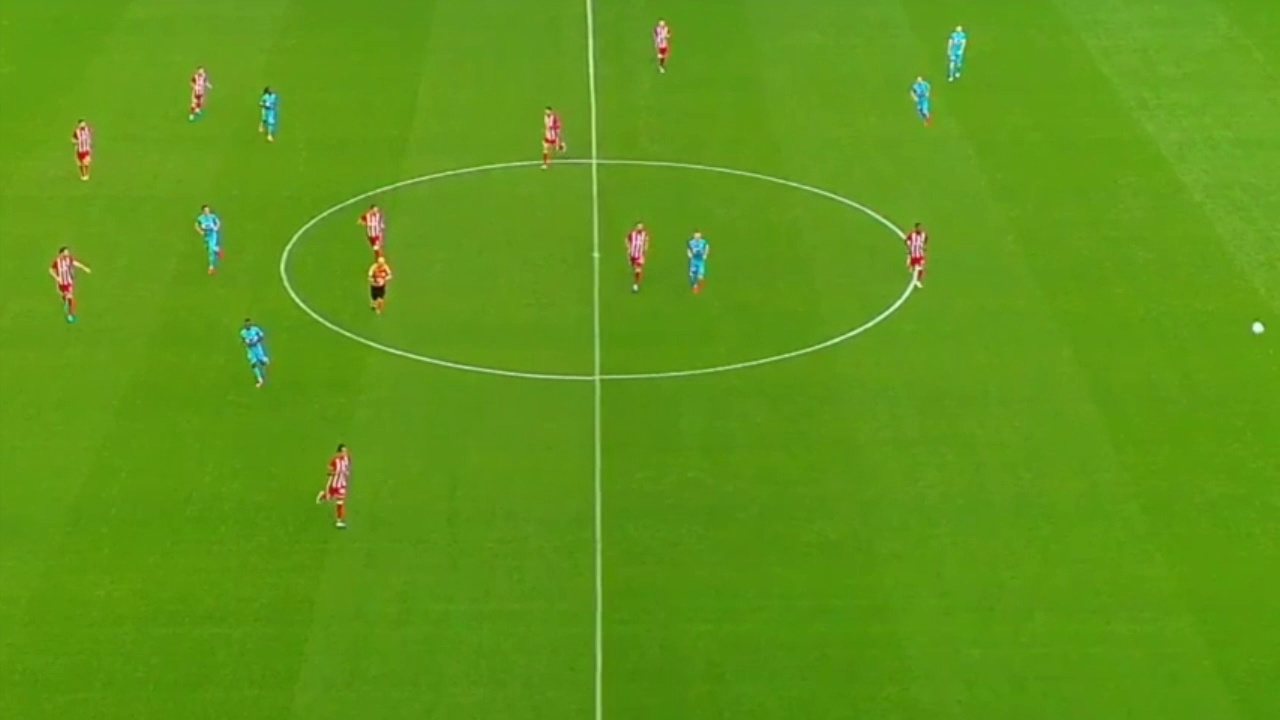ball: (1248, 317, 1268, 337)
person: (314, 445, 356, 529), (50, 245, 91, 330), (238, 318, 273, 388), (192, 204, 224, 272), (536, 105, 570, 169), (682, 227, 713, 297), (899, 219, 930, 288), (68, 119, 98, 181), (902, 72, 938, 123), (252, 87, 284, 143), (357, 204, 389, 259), (943, 23, 971, 80), (628, 222, 648, 297), (186, 65, 214, 118), (650, 16, 675, 73)
